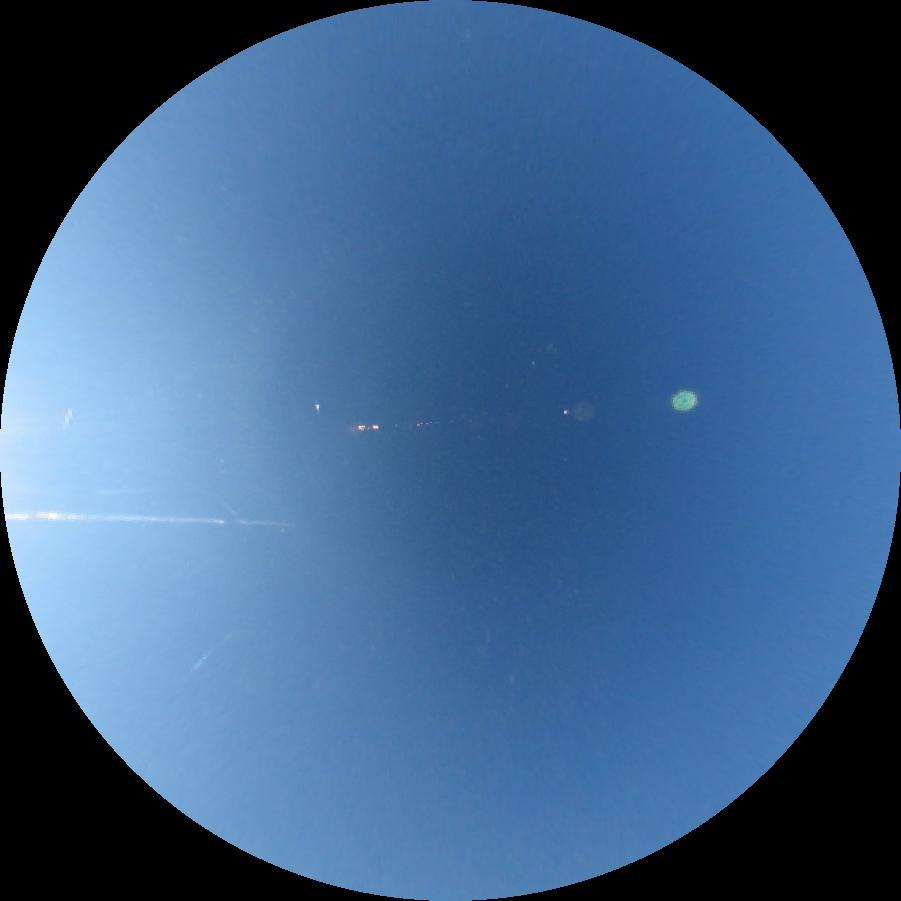contrail young: (56, 405, 80, 438), (217, 496, 238, 516)
parasite: (1, 2, 897, 898), (3, 510, 224, 524), (182, 629, 232, 678), (233, 518, 289, 527)
unknow: (97, 488, 155, 495)
